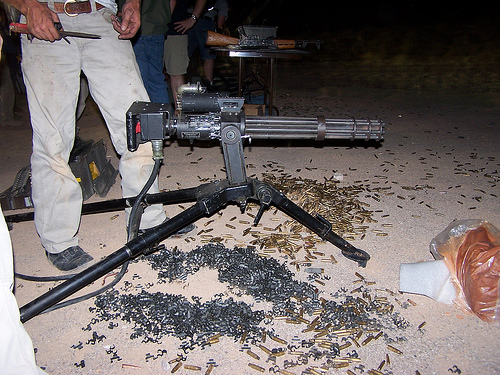rifle: (103, 85, 400, 263)
